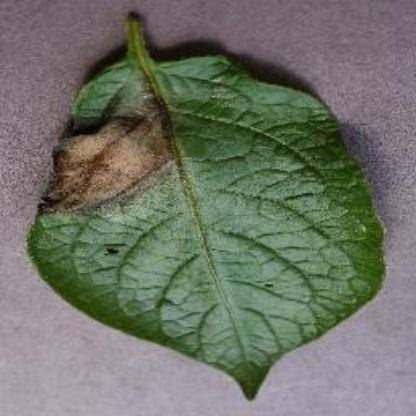Late-Blight: (29, 11, 395, 404)
